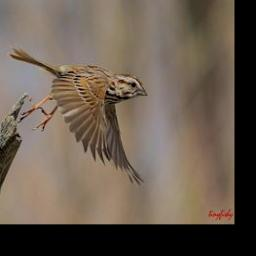Sparrow: (5, 37, 147, 187)
